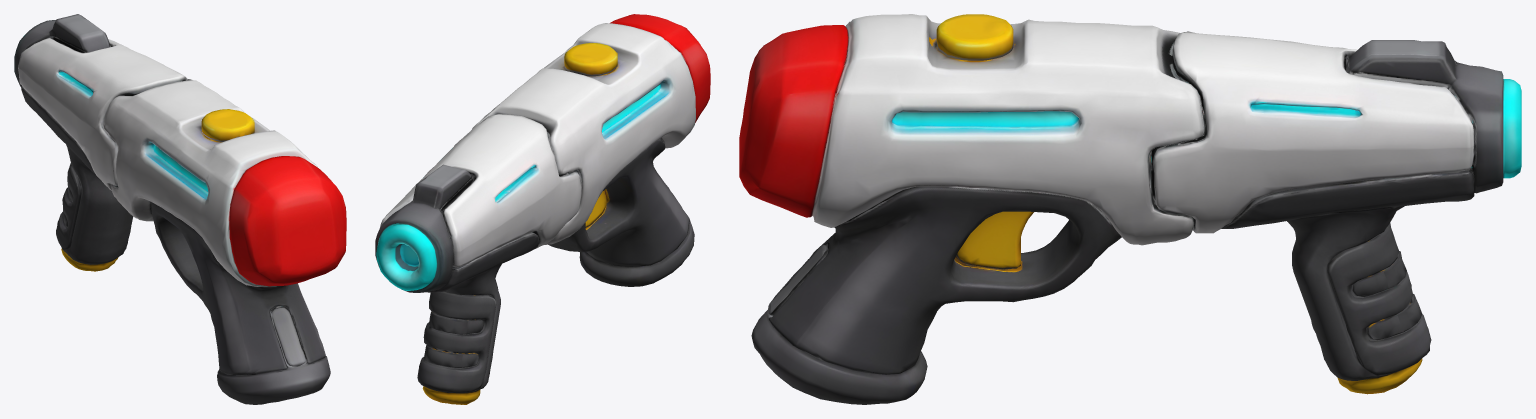
The model's file is gun-smart.fbx.
3 views of the same model, side by side, from view 1: azimuth 30°, elevation 25°; view 2: azimuth 150°, elevation 25°; view 3: azimuth 270°, elevation 25° (orthographic). The views are drawn at different scales.
Visible parts, largest first — view 1: tripo_node_19a1ceaa-ea88-4105-921c-1492243a33d0; view 2: tripo_node_19a1ceaa-ea88-4105-921c-1492243a33d0; view 3: tripo_node_19a1ceaa-ea88-4105-921c-1492243a33d0.
Boxes of the visible parts, <box> form: tripo_node_19a1ceaa-ea88-4105-921c-1492243a33d0: <box>14,14,346,404</box>; tripo_node_19a1ceaa-ea88-4105-921c-1492243a33d0: <box>375,14,710,404</box>; tripo_node_19a1ceaa-ea88-4105-921c-1492243a33d0: <box>739,14,1521,404</box>.
Bounding box in the file's own units: 0.2314 × 0.4952 × 0.977.
Materials: 1 (1 with a texture image).
